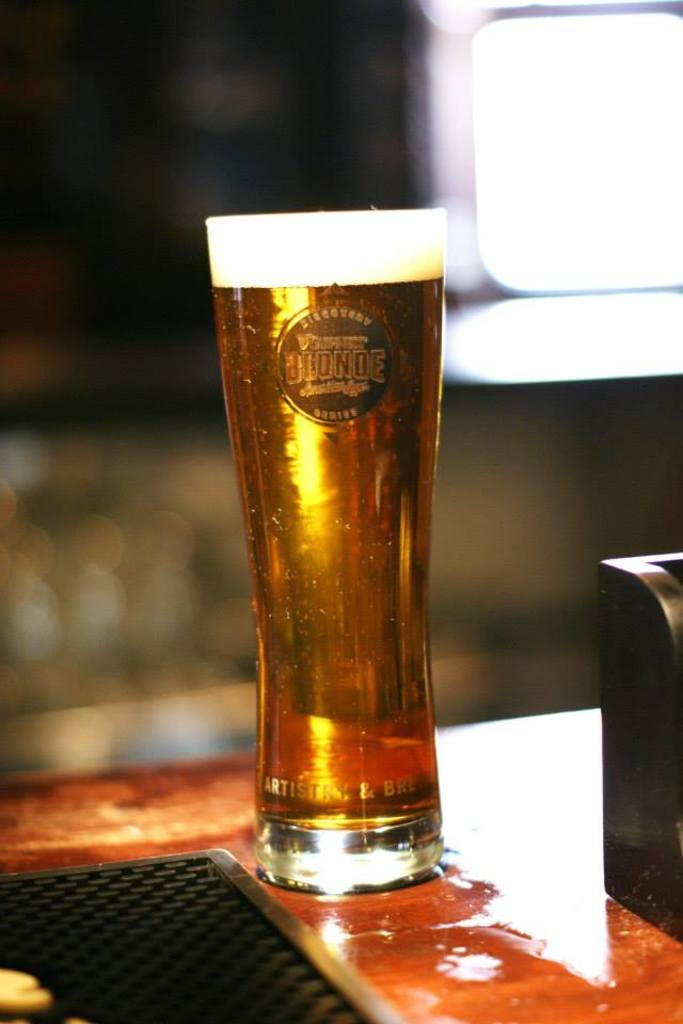Beer: (204, 208, 444, 896)
